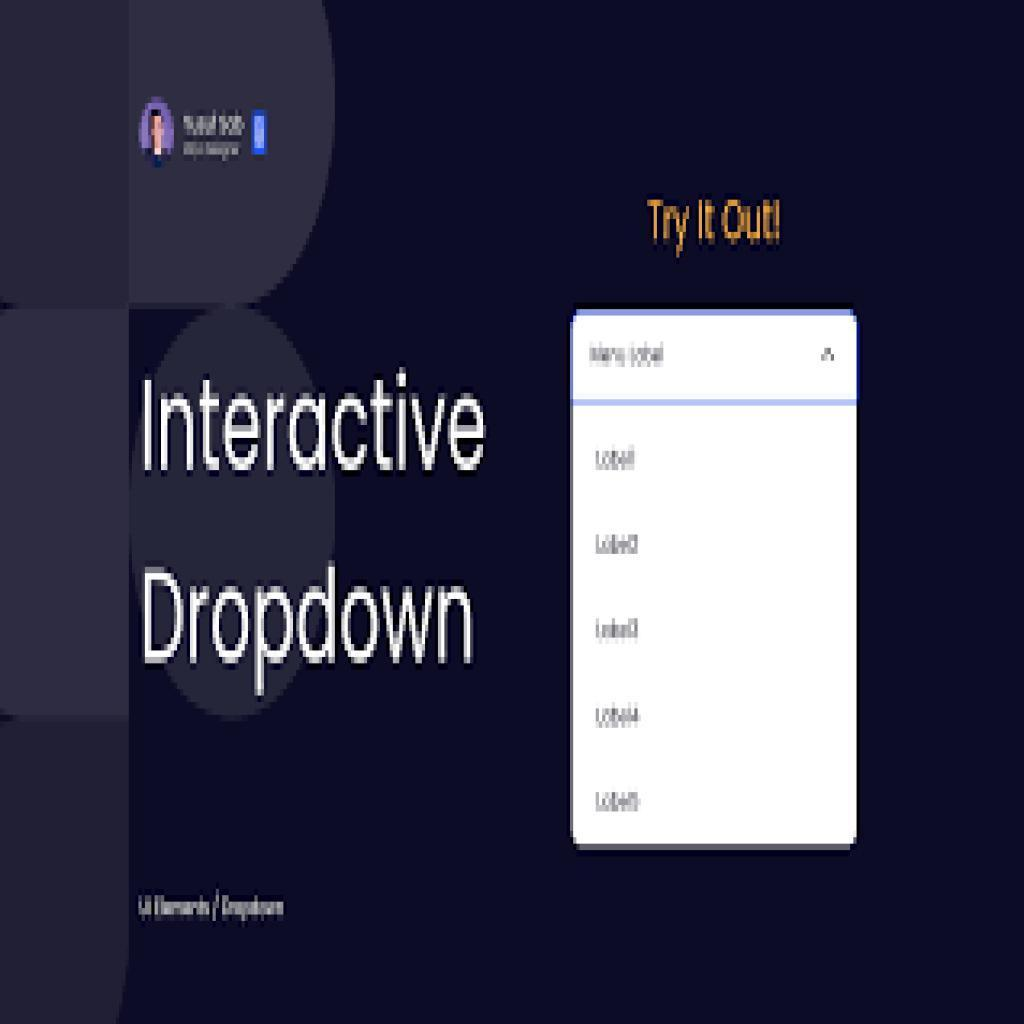dropdown: (571, 310, 859, 406)
